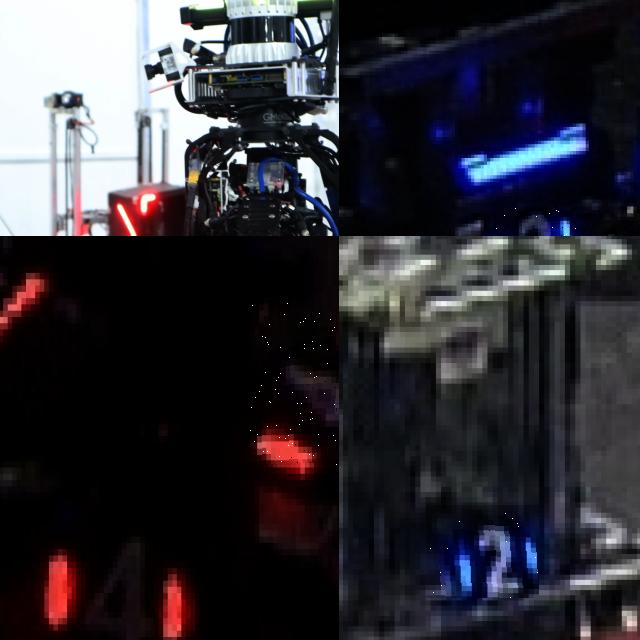B2: (426, 505, 539, 598), (490, 206, 579, 236)
R4: (21, 527, 185, 640), (249, 301, 339, 464)
